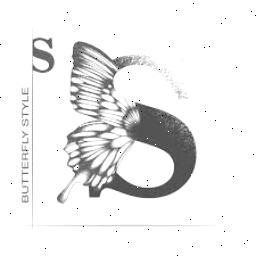b: (20, 194, 30, 204)
e: (20, 161, 30, 169)
f: (20, 144, 30, 152)
l: (21, 136, 29, 144)
r: (20, 152, 30, 160)
s: (31, 34, 59, 76), (20, 119, 30, 129)
t: (21, 169, 29, 179)
u: (20, 184, 30, 194)
y: (20, 130, 30, 138)
